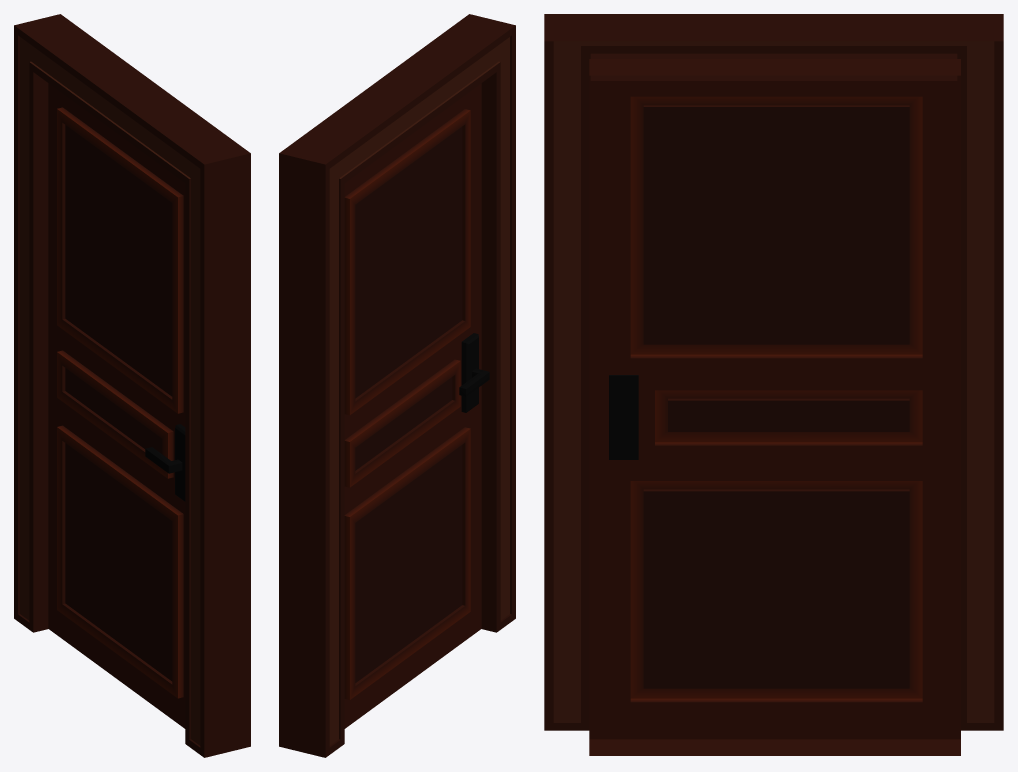
File: Door2.fbx
The picture shows the model from 3 angles, left to right: view 1: azimuth 30°, elevation 25°; view 2: azimuth 150°, elevation 25°; view 3: azimuth 270°, elevation 25°; orthographic projection. The views are drawn at different scales.
Visible parts, largest first — view 1: pCube47; view 2: pCube47; view 3: pCube47.
Boxes of the visible parts, x1=… form: pCube47: x1=14, y1=14, x2=250, y2=757; pCube47: x1=279, y1=14, x2=515, y2=757; pCube47: x1=544, y1=14, x2=1003, y2=755.
Bounding box in the file's own units: 16.4 × 181 × 105.
